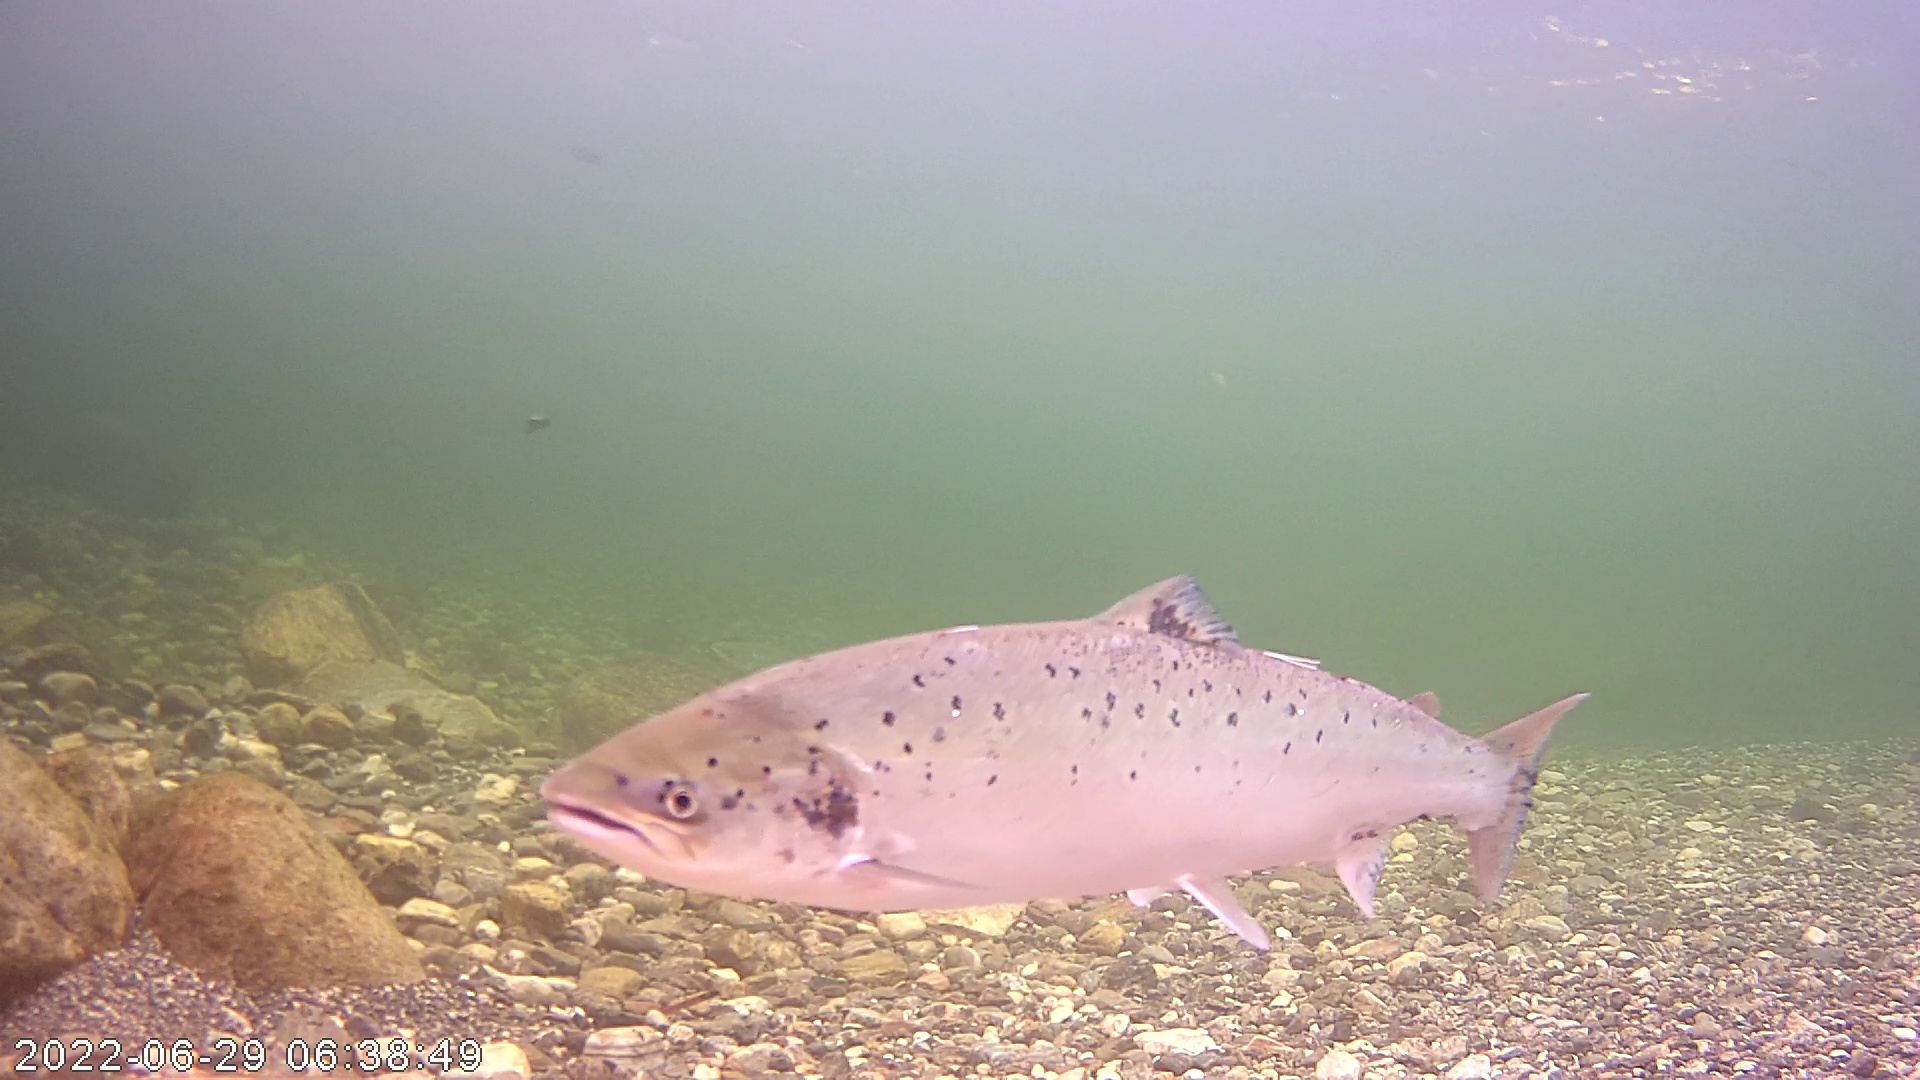salmon: (583, 491, 1581, 936)
